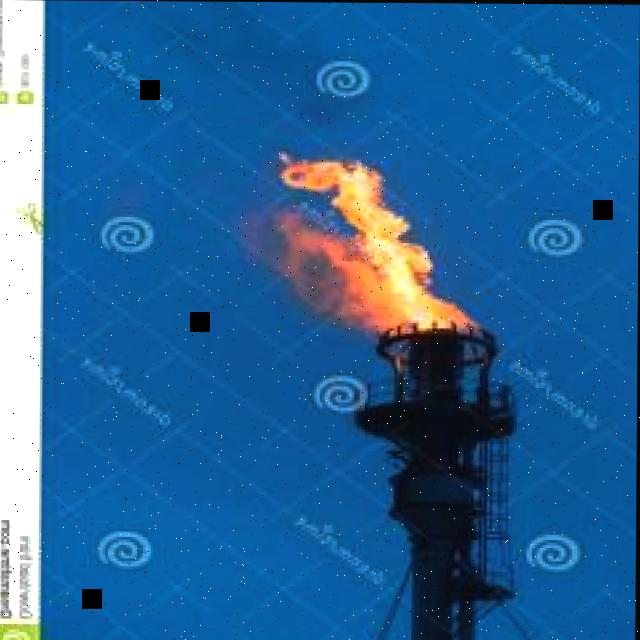fire: (269, 155, 482, 333)
